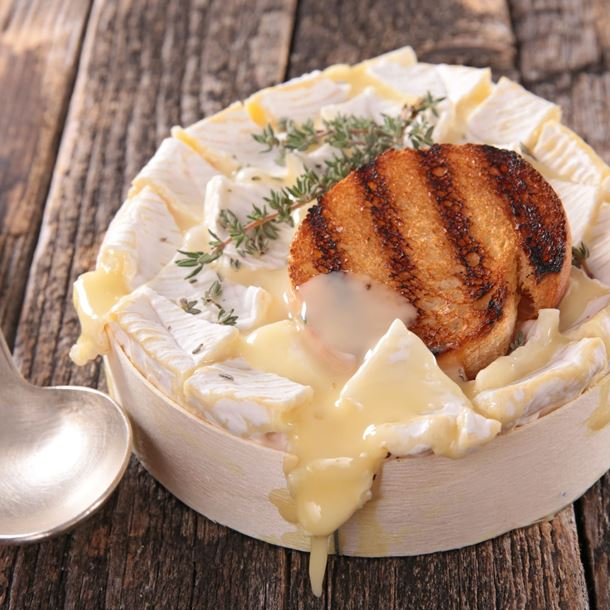camembert: (71, 43, 610, 559)
